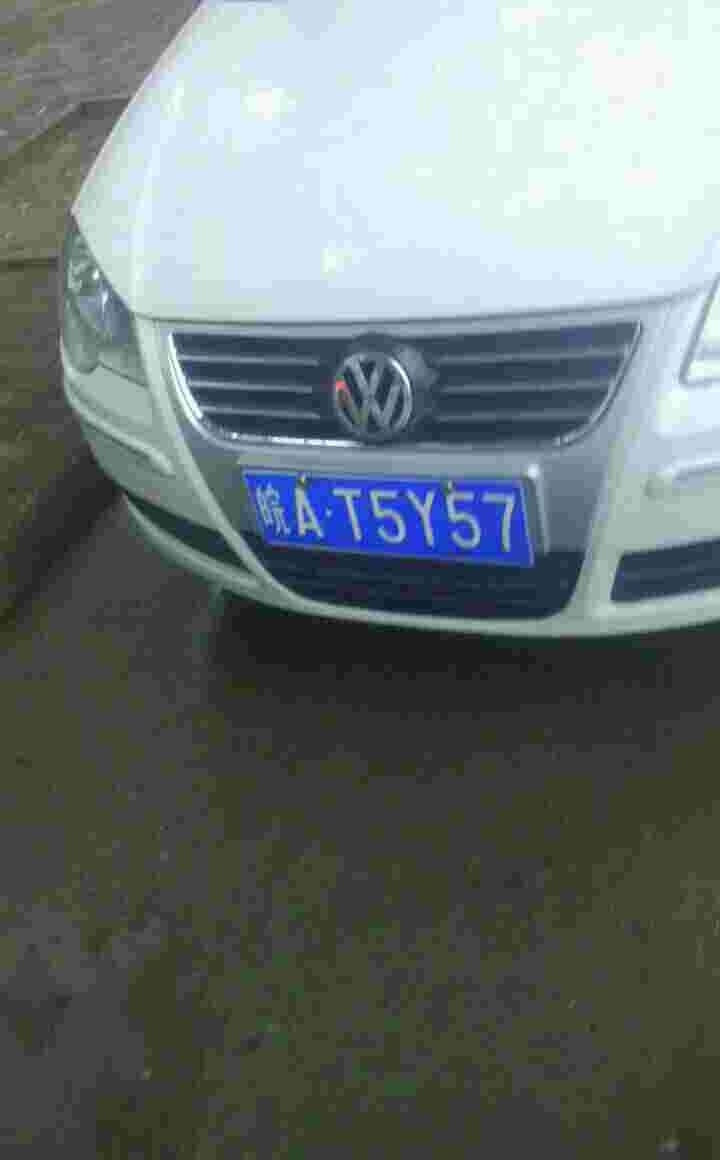license_plate: (242, 469, 526, 570)
